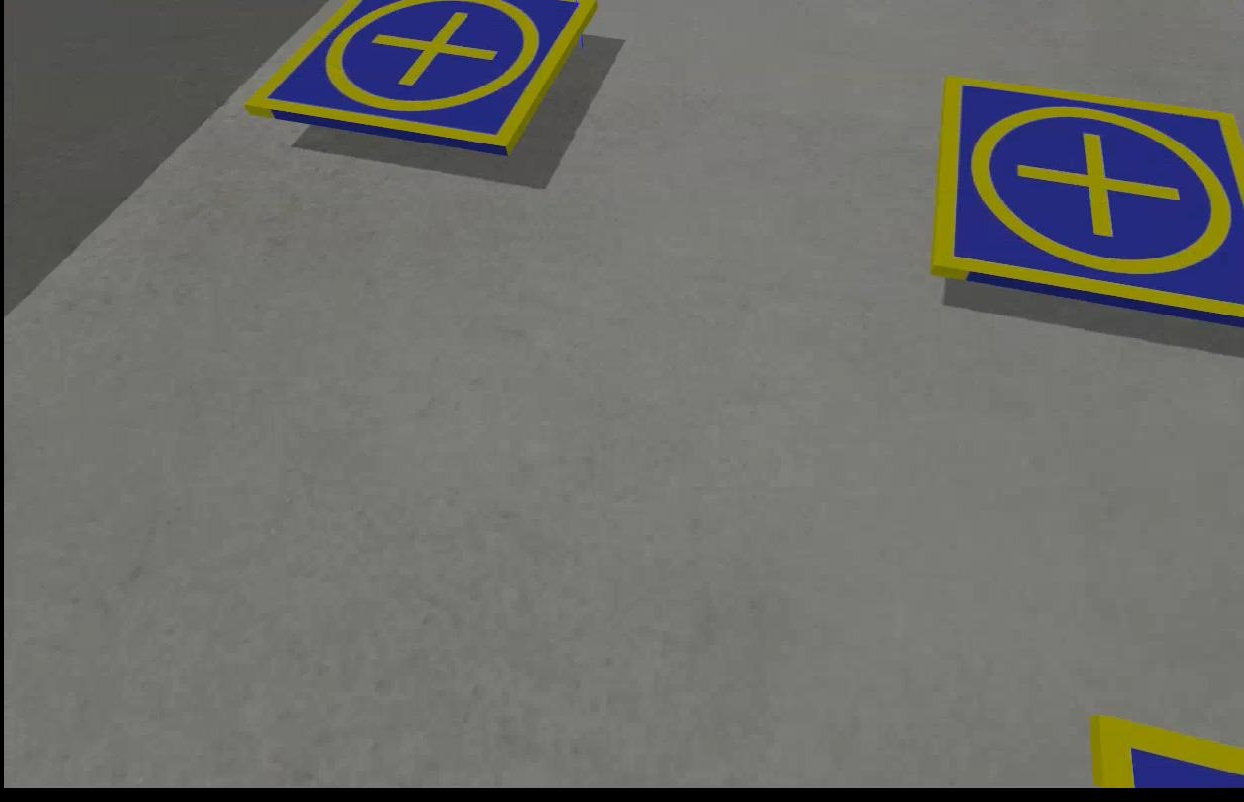small_base: (933, 79, 1242, 326), (240, 1, 596, 161)
